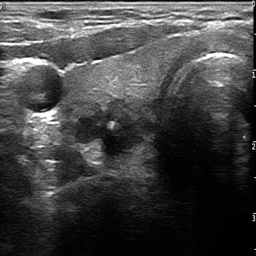mass: (64, 101, 147, 155)
